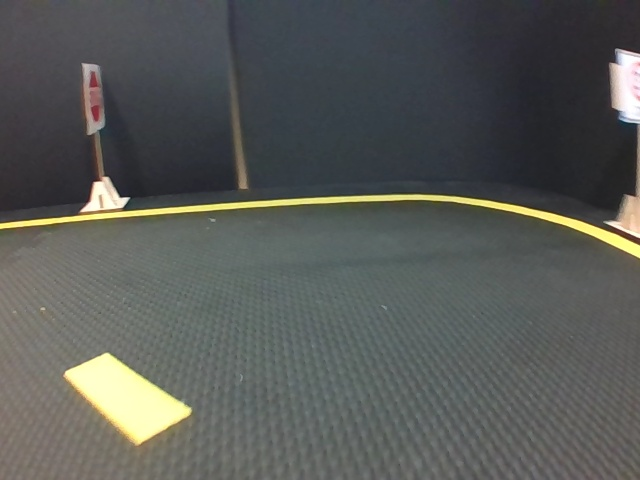30: (620, 54, 640, 119)
stop: (81, 63, 106, 131)
